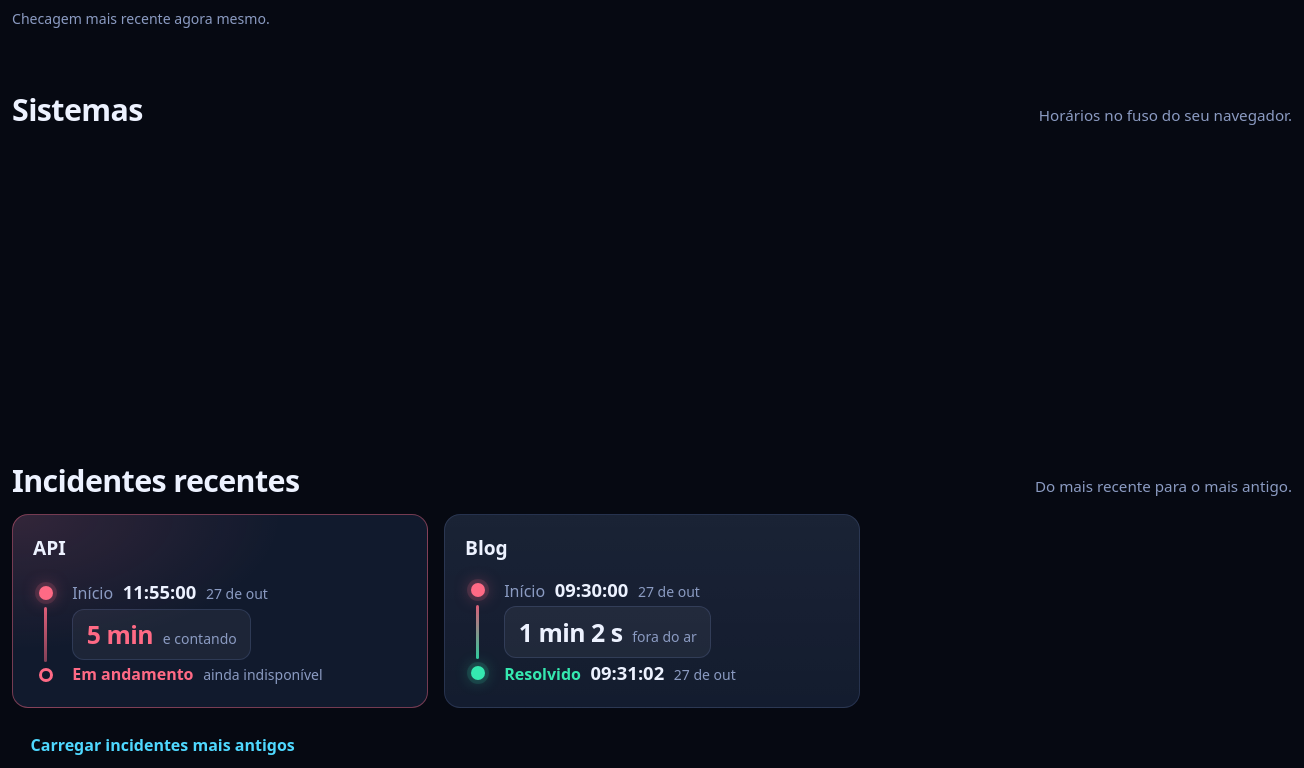
Scenario: página pública: erro, desatualização e atualização periódica › incidentes: lista abertos e resolvidos com a duração, e 'carregar mais' usa o cursor
(page scrolled)
Expected: the text "Em andamento" is shown, [72,662,194,687]
Click the button "Carregar incidentes mais antigos" at (163, 746), box [12,724,313,767]
(page scrolled)
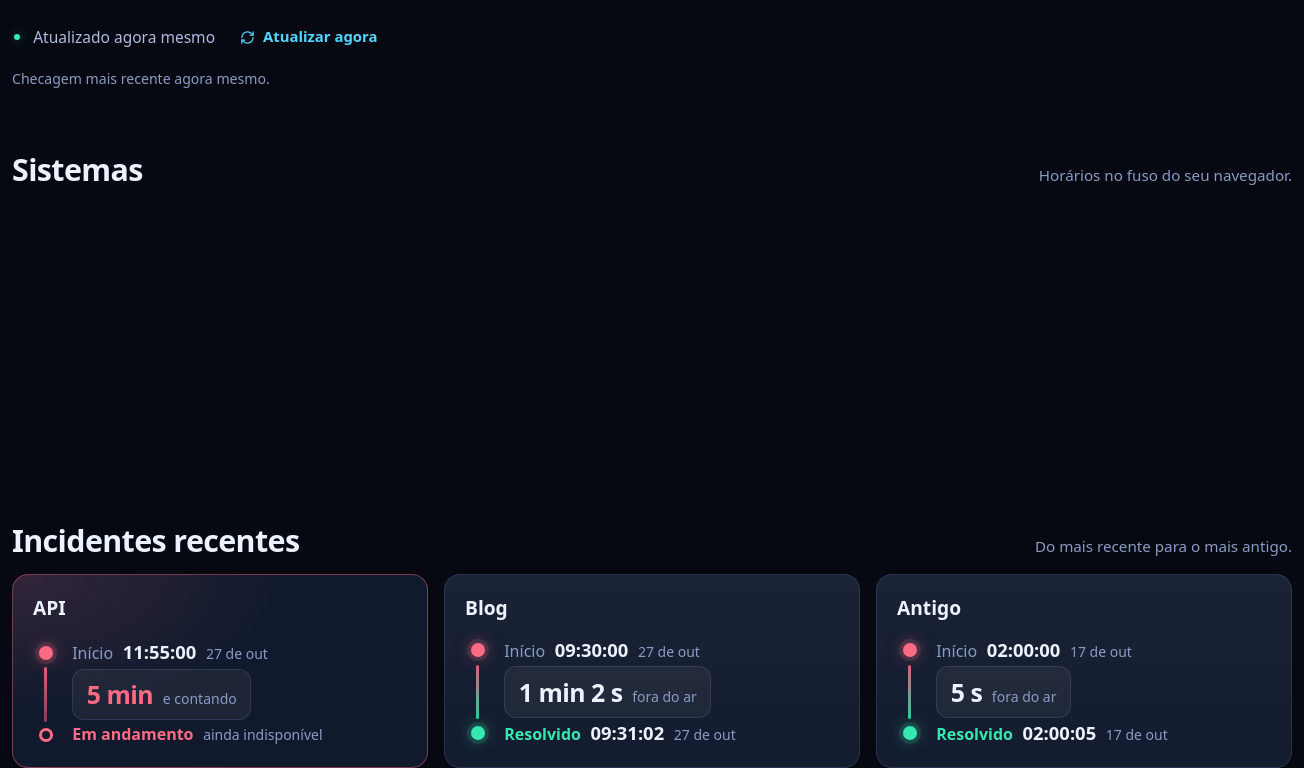
Expected: the link "Antigo" is shown, [897,594,961,621]
Now the button "Carregar incidentes mais antigos" is gone
